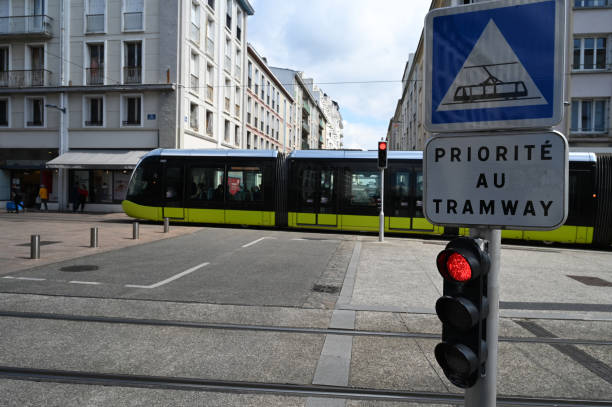bollard: (29, 229, 43, 260), (127, 220, 144, 240), (88, 221, 99, 251)
trafficlight: (431, 240, 486, 394), (373, 137, 389, 173)
